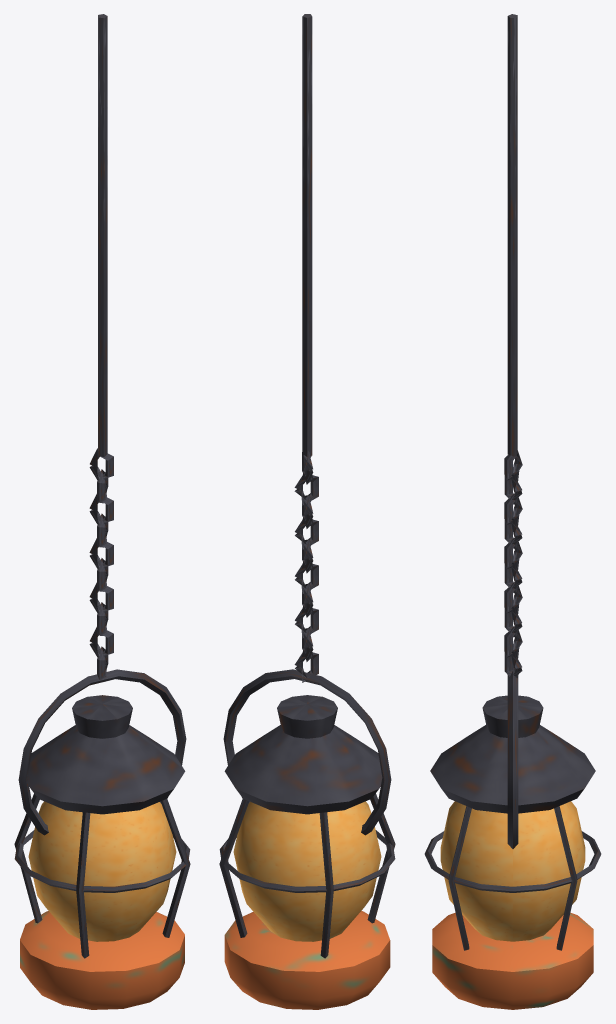
Rendered from Lamp_Storm.fbx.
3 renders of one model, left to right at view 1: azimuth 30°, elevation 25°; view 2: azimuth 150°, elevation 25°; view 3: azimuth 270°, elevation 25°, orthographic.
Visible parts, largest first — view 1: Lamp_Storm; view 2: Lamp_Storm; view 3: Lamp_Storm.
Part boxes in pixels (<box>): Lamp_Storm: <box>14,14,190,1009</box>; Lamp_Storm: <box>219,14,395,1009</box>; Lamp_Storm: <box>424,14,601,1009</box>.
Bounding box in the file's own units: 0.444 × 2.44 × 0.406.
2 materials, 2 textured.
